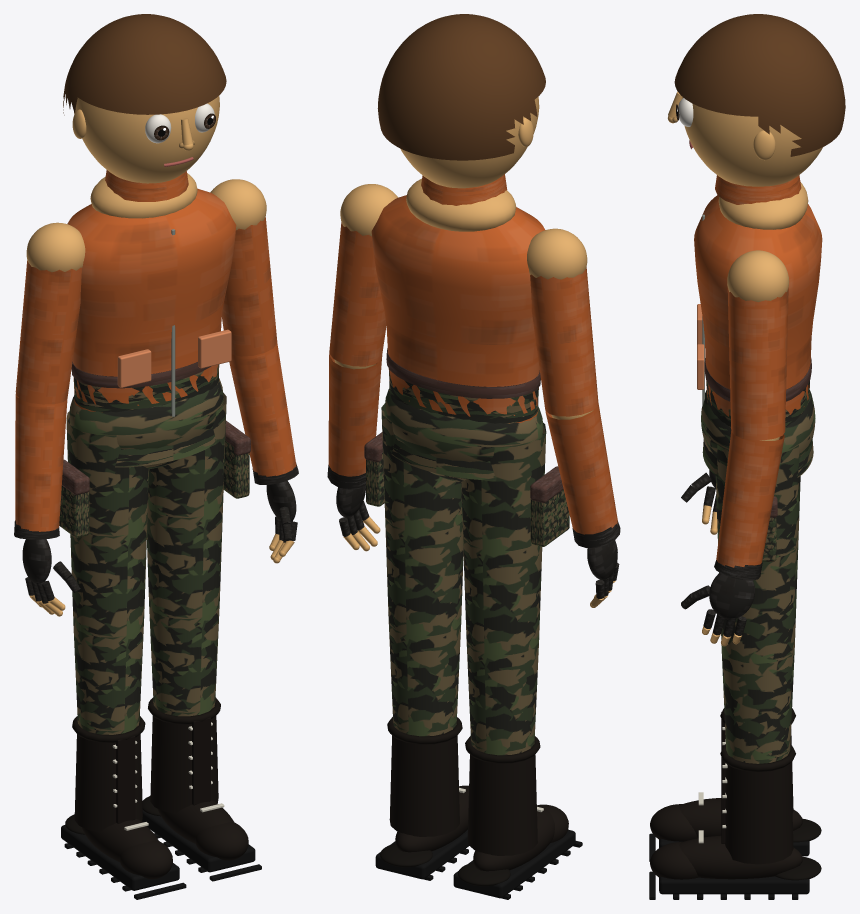
The model's file is 07-gants-de-mecanicien.glb.
3 views of the same model, side by side, from view 1: azimuth 30°, elevation 25°; view 2: azimuth 150°, elevation 25°; view 3: azimuth 270°, elevation 25° (orthographic). The views are drawn at different scales.
Size of the model in its own units: 0.6261 by 1.77 by 0.3715.
Materials: 23 (5 with a texture image).
